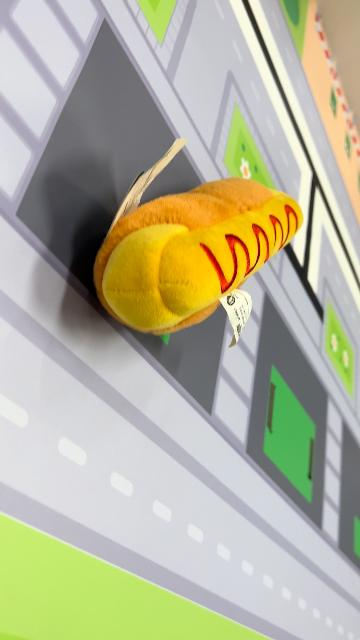hotdog: (93, 176, 306, 338)
